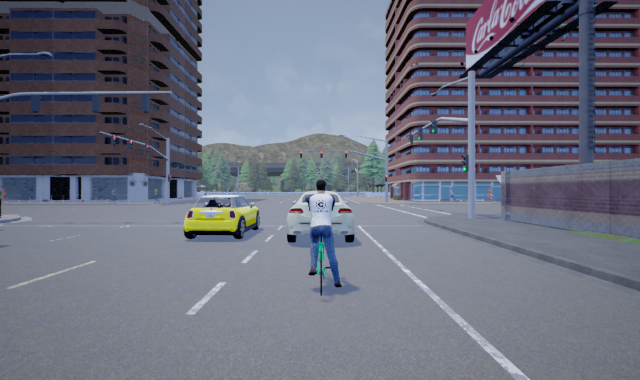bike: (308, 180, 343, 296)
pedestrian: (109, 186, 119, 202), (1, 186, 10, 202), (151, 186, 160, 202), (485, 186, 494, 202), (448, 186, 456, 202)
vehicle: (285, 190, 354, 242), (183, 194, 261, 240)
